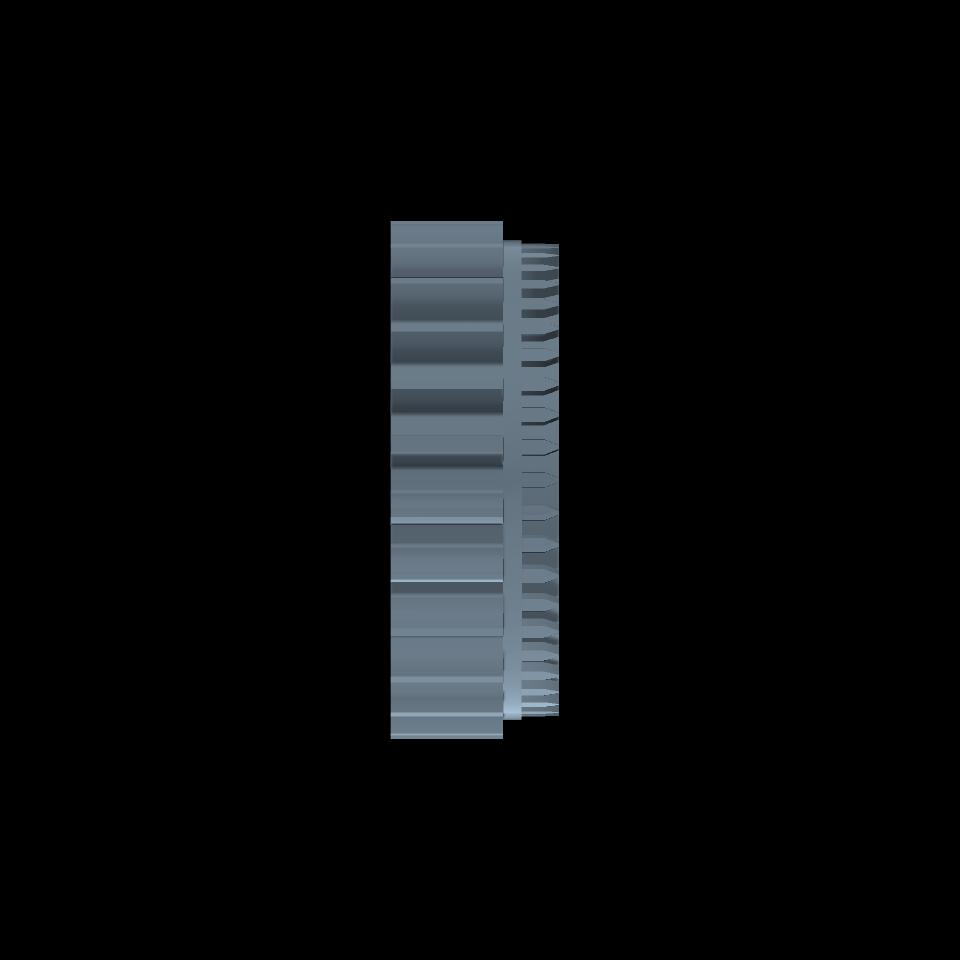Straight: (391, 221, 503, 737), (522, 243, 549, 714)
